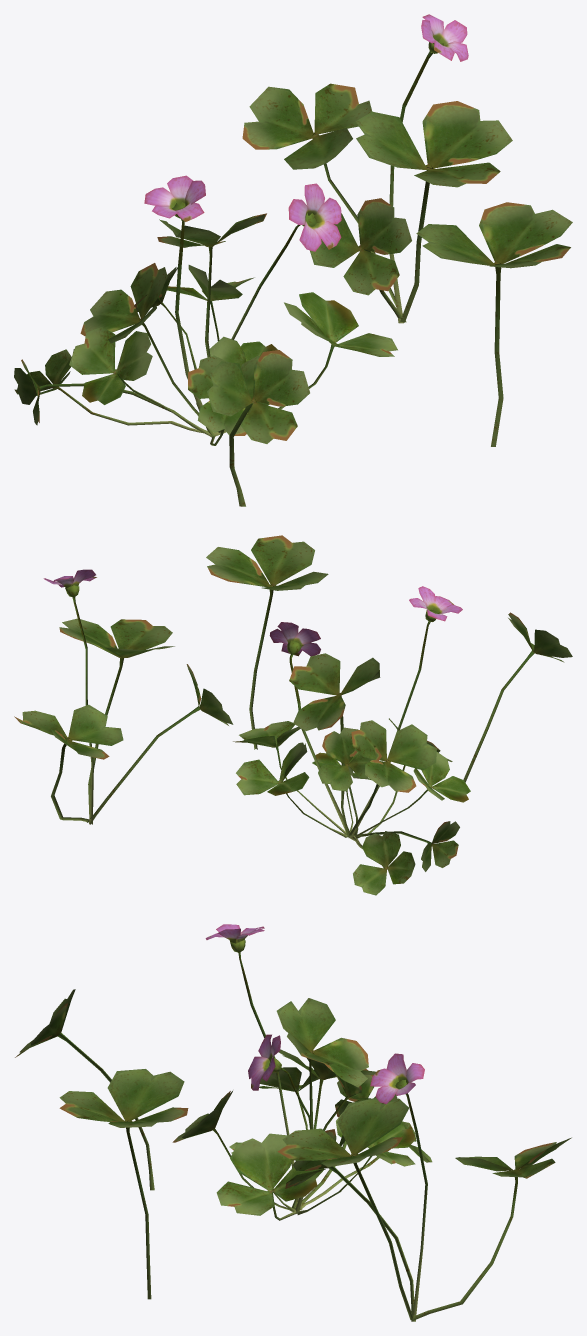
The model's file is shrub_sorrel.glb.
3 views of the same model, one above another, from view 1: azimuth 30°, elevation 25°; view 2: azimuth 150°, elevation 25°; view 3: azimuth 270°, elevation 25° (orthographic). The views are drawn at different scales.
Visible parts, largest first — view 1: shrub_sorrel_01_d, shrub_sorrel_01_a, shrub_sorrel_01_i, shrub_sorrel_01_h; view 2: shrub_sorrel_01_d, shrub_sorrel_01_a, shrub_sorrel_01_i, shrub_sorrel_01_h; view 3: shrub_sorrel_01_d, shrub_sorrel_01_a, shrub_sorrel_01_i, shrub_sorrel_01_h.
Boxes of the visible parts, bbox=[...] form: shrub_sorrel_01_d: bbox=[14, 175, 397, 445]; shrub_sorrel_01_a: bbox=[242, 14, 512, 323]; shrub_sorrel_01_i: bbox=[416, 202, 572, 446]; shrub_sorrel_01_h: bbox=[207, 350, 309, 506]; shrub_sorrel_01_d: bbox=[233, 586, 470, 895]; shrub_sorrel_01_a: bbox=[14, 569, 233, 824]; shrub_sorrel_01_i: bbox=[206, 535, 328, 749]; shrub_sorrel_01_h: bbox=[463, 612, 572, 782]; shrub_sorrel_01_d: bbox=[172, 924, 432, 1220]; shrub_sorrel_01_a: bbox=[277, 1053, 571, 1321]; shrub_sorrel_01_i: bbox=[59, 1069, 188, 1299]; shrub_sorrel_01_h: bbox=[15, 989, 154, 1190].
Bounding box in the file's own units: 2.22 × 1.37 × 2.51.
Materials: 1 (1 with a texture image).
